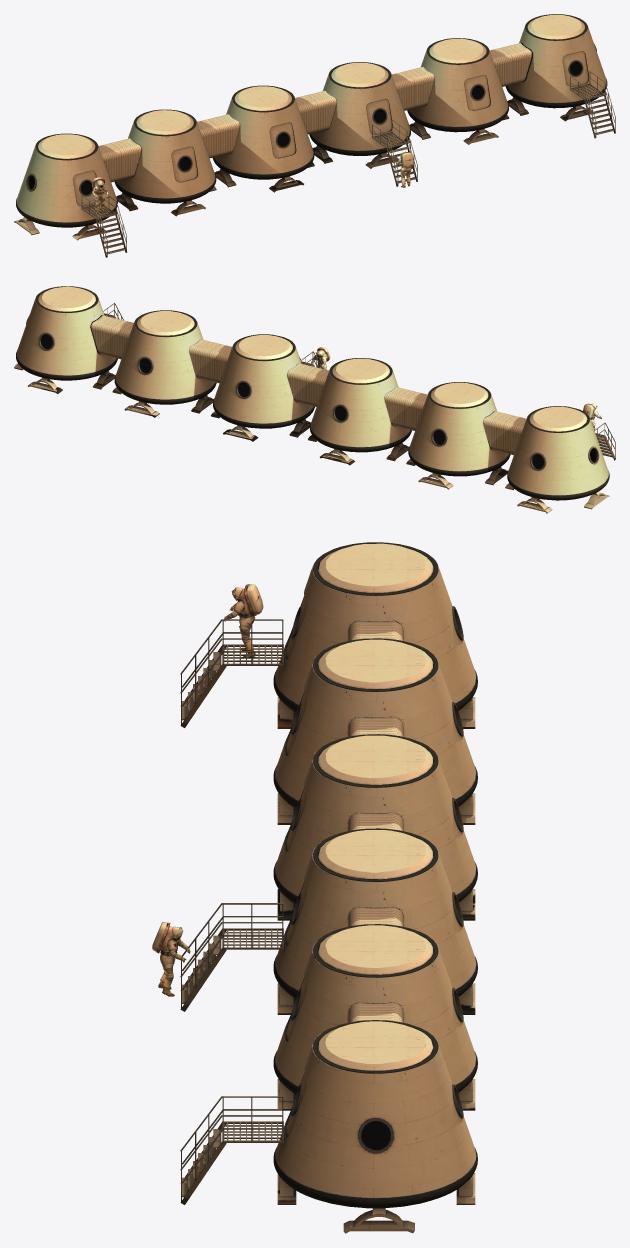
File: mars-one-base.glb
3 renders of one model, top to bottom at view 1: azimuth 30°, elevation 25°; view 2: azimuth 150°, elevation 25°; view 3: azimuth 270°, elevation 25°, orthographic. The views are drawn at different scales.
Visible parts, largest first — view 1: Mars_One___module01, Mars_One___module02, Mars_One___module05, Mars_One___module03, Mars_One___module04, Mars_One___m6, Mars_One6, Mars_One5; view 2: Mars_One___module01, Mars_One___module05, Mars_One___module02, Mars_One___module04, Mars_One___module03, Mars_One___m6, Mars_One6, Mars_One5; view 3: Mars_One___m6, Mars_One___module05, Mars_One___module01, Mars_One___module02, Mars_One___module04, Mars_One___module03, Mars_One6, Mars_One5.
Boxes of the visible parts, box(x1,y1,x2,y2) form: Mars_One___module01: box(14, 133, 140, 240); Mars_One___module02: box(114, 109, 239, 216); Mars_One___module05: box(407, 38, 532, 144); Mars_One___module03: box(212, 85, 336, 192); Mars_One___module04: box(309, 62, 434, 168); Mars_One___m6: box(505, 14, 607, 121); Mars_One6: box(81, 71, 615, 257); Mars_One5: box(92, 151, 413, 214); Mars_One___module01: box(483, 406, 609, 513); Mars_One___module05: box(91, 310, 216, 417); Mars_One___module02: box(385, 382, 510, 489); Mars_One___module04: box(189, 334, 314, 441); Mars_One___module03: box(287, 358, 411, 465); Mars_One___m6: box(14, 286, 117, 393); Mars_One6: box(103, 302, 615, 460); Mars_One5: box(311, 347, 601, 431); Mars_One___m6: box(273, 1020, 477, 1233); Mars_One___module05: box(273, 924, 477, 1110); Mars_One___module01: box(273, 542, 477, 728); Mars_One___module02: box(273, 638, 477, 824); Mars_One___module04: box(273, 828, 477, 1014); Mars_One___module03: box(273, 734, 477, 920); Mars_One6: box(180, 619, 283, 1204); Mars_One5: box(152, 584, 263, 996).
Bounding box in the file's own units: 1418 × 178 × 346.
Materials: 14 (14 with a texture image).
